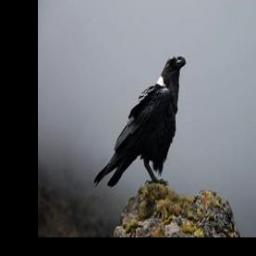Crow: (91, 49, 187, 193)
